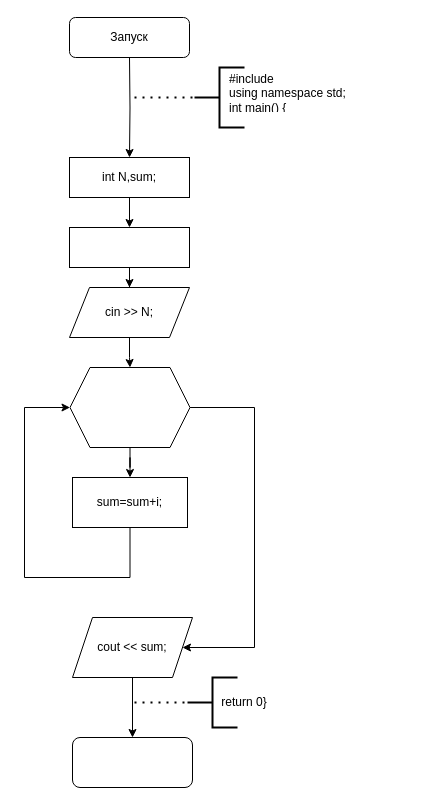
The diagram is 432 pixels wide and 805 high, and some of its shapes have lost their labels. Each missing label, with the centre of its shape:
"for (int i = 1; i <= N; i++)" goes at (129,407).
"sum = 0;" goes at (129,247).
"конец" goes at (132,762).
